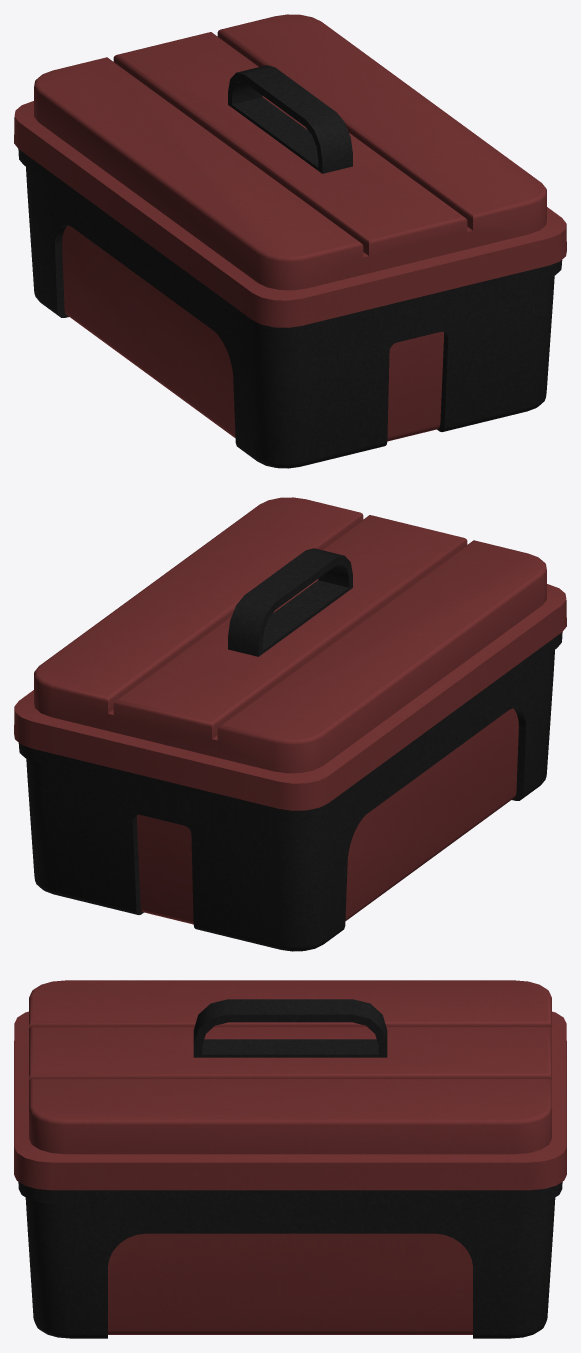
The model's file is toolbox.obj.
3 renders of one model, top to bottom at view 1: azimuth 30°, elevation 25°; view 2: azimuth 150°, elevation 25°; view 3: azimuth 270°, elevation 25°, orthographic. The views are drawn at different scales.
Visible parts, largest first — view 1: lid_toolbox, toolbox; view 2: lid_toolbox, toolbox; view 3: lid_toolbox, toolbox.
Part boxes in pixels (x1,y1,x2,y2): lid_toolbox: [14, 14, 566, 327]; toolbox: [18, 149, 562, 468]; lid_toolbox: [14, 497, 566, 810]; toolbox: [18, 632, 562, 951]; lid_toolbox: [14, 980, 566, 1190]; toolbox: [18, 1182, 562, 1338].
Size of the model in its own units: 0.2372 by 0.1877 by 0.3582.
1 material, 1 textured.
